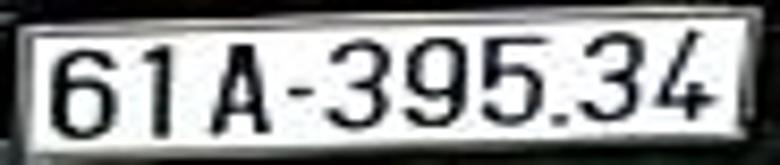-: (283, 86, 318, 100)
.: (549, 113, 568, 126)
1: (143, 43, 173, 142)
3: (581, 29, 642, 121), (330, 36, 388, 130)
4: (654, 27, 713, 122)
5: (481, 35, 545, 127)
6: (50, 49, 114, 141)
9: (406, 36, 468, 127)
A: (211, 42, 270, 137)
